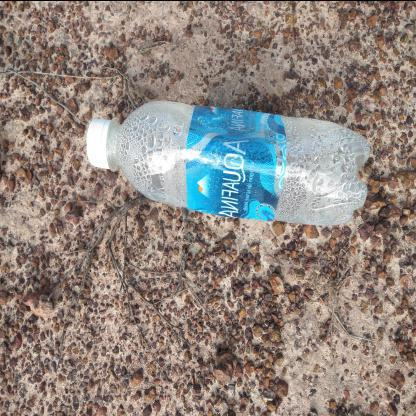plastik: (85, 98, 371, 229)
